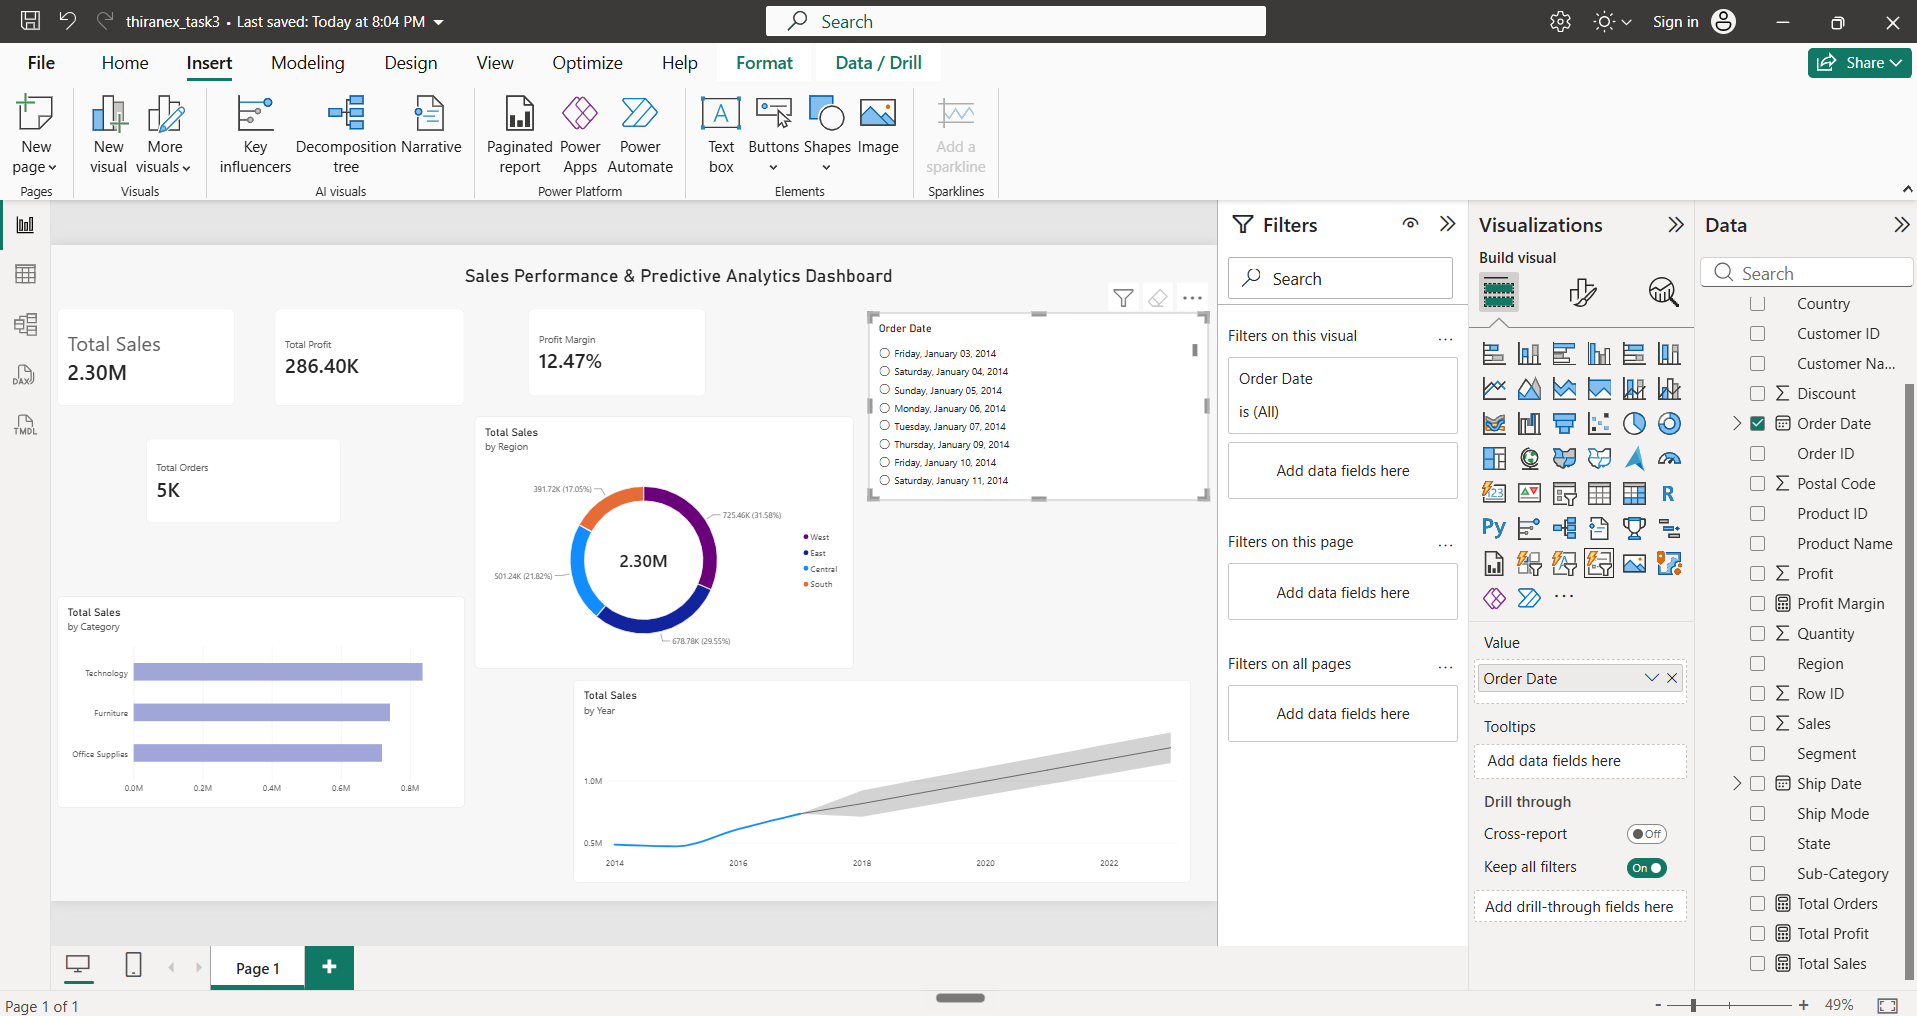

What the dashboard file says about the page in this screenshot:
{"tool":"powerbi","page":{"name":"Page 1","canvas":[1920,1080],"ordinal":0},"visuals":[{"type":"cardVisual","fields":{"Data":["Sample - Superstore.Total Sales"]},"box":[10.3,105,292.3,160.5],"z":0},{"type":"cardVisual","fields":{"Data":["Sample - Superstore.Total Profit"]},"box":[368.4,105,312.9,160.5],"z":1},{"type":"cardVisual","fields":{"Data":["Sample - Superstore.Total Orders"]},"box":[156.4,319,321.1,140],"z":2},{"type":"cardVisual","fields":{"Data":["Sample - Superstore.Profit Margin"]},"box":[786.3,105,292.3,144.1],"z":3},{"type":"lineChart","fields":{"Category":["Sample - Superstore.Order Date.Variation.Date Hierarchy.Year","Sample - Superstore.Order Date.Variation.Date Hierarchy.Quarter","Sample - Superstore.Order Date.Variation.Date Hierarchy.Month","Sample - Superstore.Order Date.Variation.Date Hierarchy.Day"],"Y":["Sample - Superstore.Total Sales"]},"box":[860.4,716.3,1016.8,333.4],"z":4},{"type":"clusteredBarChart","fields":{"Category":["Sample - Superstore.Category"],"Y":["Sample - Superstore.Total Sales"]},"box":[10.3,578.4,671,347.9],"z":5},{"type":"donutChart","fields":{"Category":["Sample - Superstore.Region"],"Y":["Sample - Superstore.Total Sales"]},"box":[697.8,282,623.7,415.8],"z":6},{"type":"textbox","title":"Sales Performance & Predictive Analytics Dashboard","box":[681.3,32.9,741,78.2],"z":7},{"type":"listSlicer","fields":{"Values":["Sample - Superstore.Order Date"]},"box":[1346.1,111.1,559.9,308.7],"z":8}]}

Visuals, with their boxes on the page's 1920x1080 design canvas (x1, y1, x2, y2). These are canvas units, not pixel positions in the 1917x1016 screenshot, which may show the page scaled, cropped or inside an application window:
cardVisual - Sample - Superstore.Total Sales: x1=10, y1=105, x2=303, y2=266
cardVisual - Sample - Superstore.Total Profit: x1=368, y1=105, x2=681, y2=266
cardVisual - Sample - Superstore.Total Orders: x1=156, y1=319, x2=478, y2=459
cardVisual - Sample - Superstore.Profit Margin: x1=786, y1=105, x2=1079, y2=249
lineChart - Sample - Superstore.Order Date.Variation.Date Hierarchy.Year x Sample - Superstore.Order Date.Variation.Date Hierarchy.Quarter: x1=860, y1=716, x2=1877, y2=1050
clusteredBarChart - Sample - Superstore.Category x Sample - Superstore.Total Sales: x1=10, y1=578, x2=681, y2=926
donutChart - Sample - Superstore.Region x Sample - Superstore.Total Sales: x1=698, y1=282, x2=1322, y2=698
"Sales Performance & Predictive Analytics Dashboard" textbox: x1=681, y1=33, x2=1422, y2=111
listSlicer - Sample - Superstore.Order Date: x1=1346, y1=111, x2=1906, y2=420
